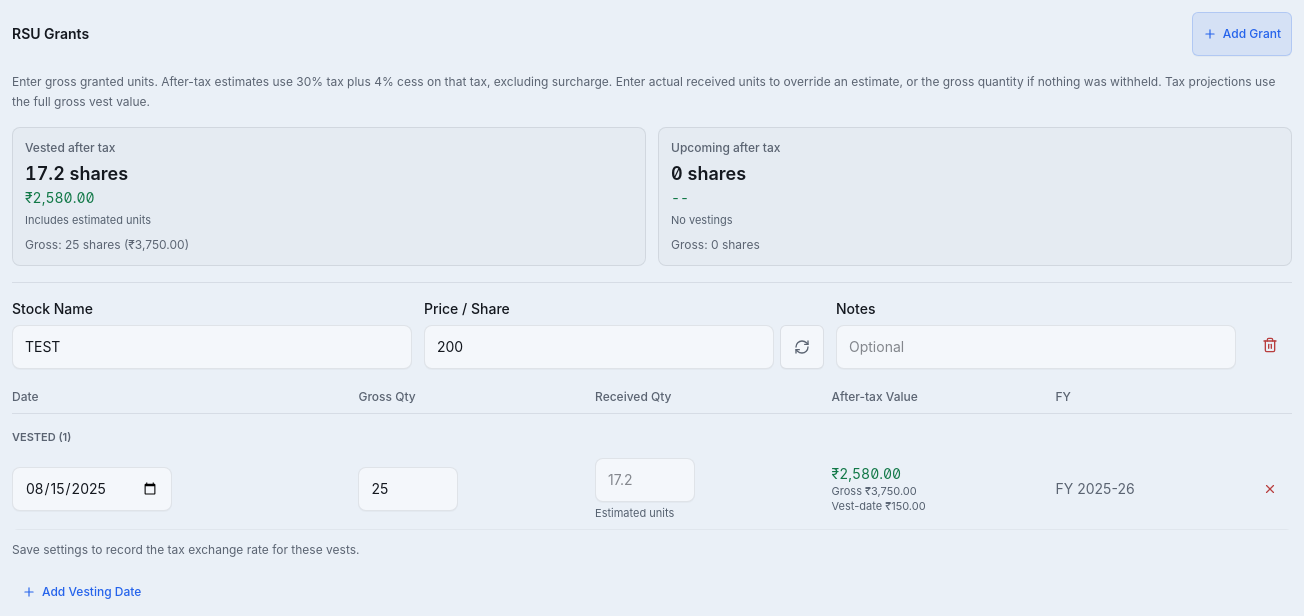
Test: RSU received-unit settings › honors zero actual units and returns to an estimate when the override is cleared
In the number field named "Actual shares received after tax for TEST vesting 1": (645,480) [595,458,695,502], type "0"
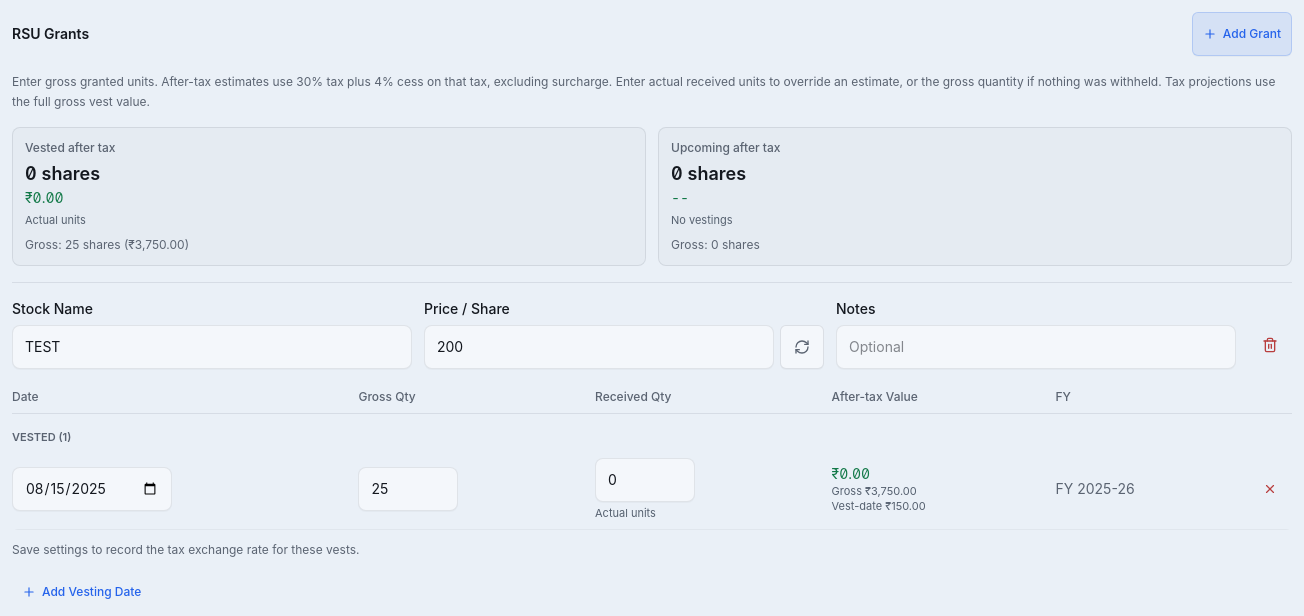
Expected: the text "Gross ₹3,750.00" is shown, [832,484,917,498]
Result: the text "₹0.00" next to "FY 2025-26" is shown at [832,465,870,482]
Clear the number field named "Actual shares received after tax for TEST vesting 1": (645,480) [595,458,695,502]
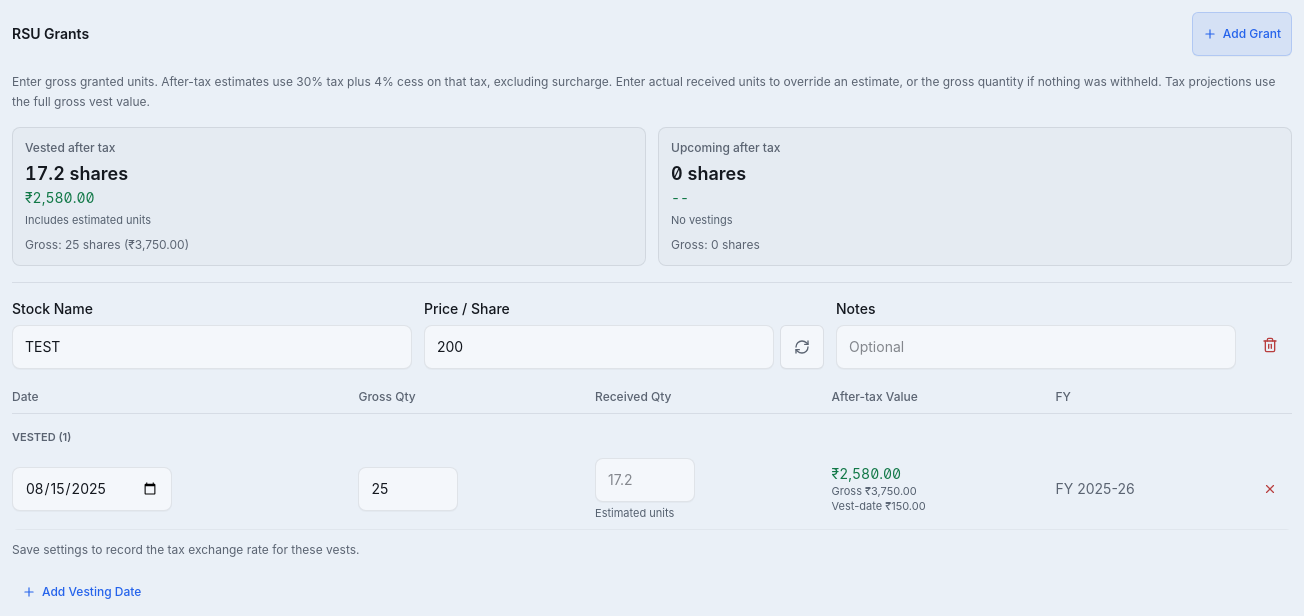
Result: the text "Estimated units" is shown at [595,506,674,520]
Result: the text "₹2,580.00" next to "FY 2025-26" is shown at [832,465,901,482]
